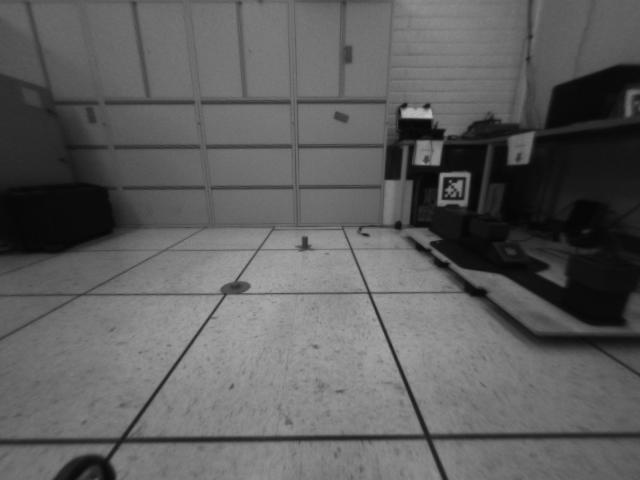X: (296, 236, 312, 249)
